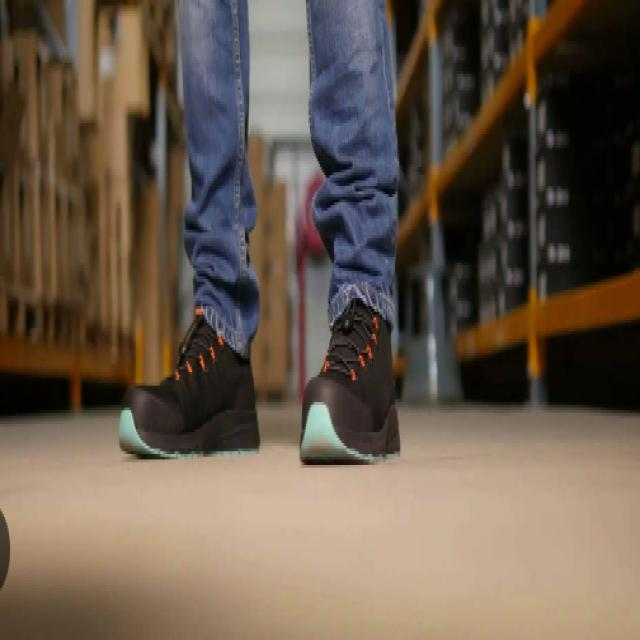shoes: (117, 270, 406, 472)
